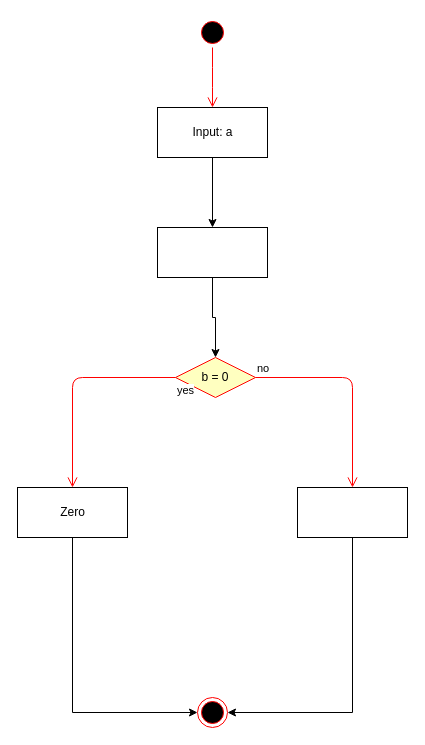
The diagram is 425 pixels wide and 745 high, and some of its shapes have lost their labels. The centre of each missing label's shape, as x and y in pixels:
b = a / 2: the point at 212,252
Garbage: the point at 352,512
